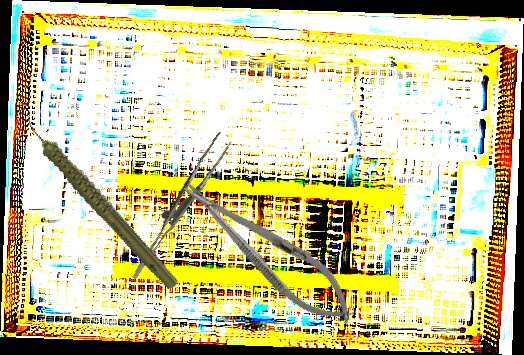Handpiece: (20, 86, 182, 314)
Needle Holder: (170, 165, 367, 338)
Tissue Forceps: (110, 131, 245, 280)
